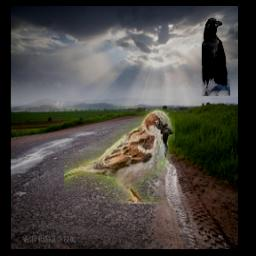Crow: (202, 18, 230, 97)
Sparrow: (63, 108, 174, 204)
